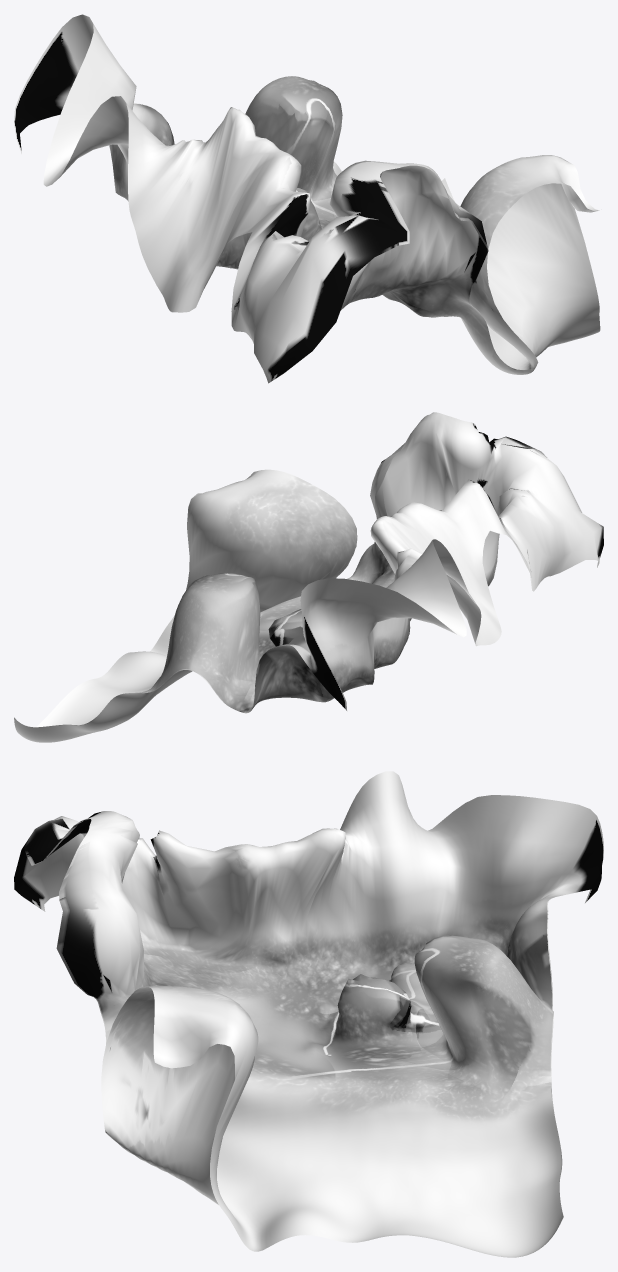
Rendered from test_lvl.gltf.
3 views of the same model, one above another, from view 1: azimuth 30°, elevation 25°; view 2: azimuth 150°, elevation 25°; view 3: azimuth 270°, elevation 25° (orthographic). The views are drawn at different scales.
Parts seen in each view (by area): view 1: Plane; view 2: Plane; view 3: Plane.
Boxes of the visible parts, x1,y1,x2,y2 form: Plane: [14, 14, 600, 383]; Plane: [14, 412, 603, 742]; Plane: [14, 771, 603, 1257].
Bounding box in the file's own units: 368 × 220 × 399.
Materials: 2 (1 with a texture image).
